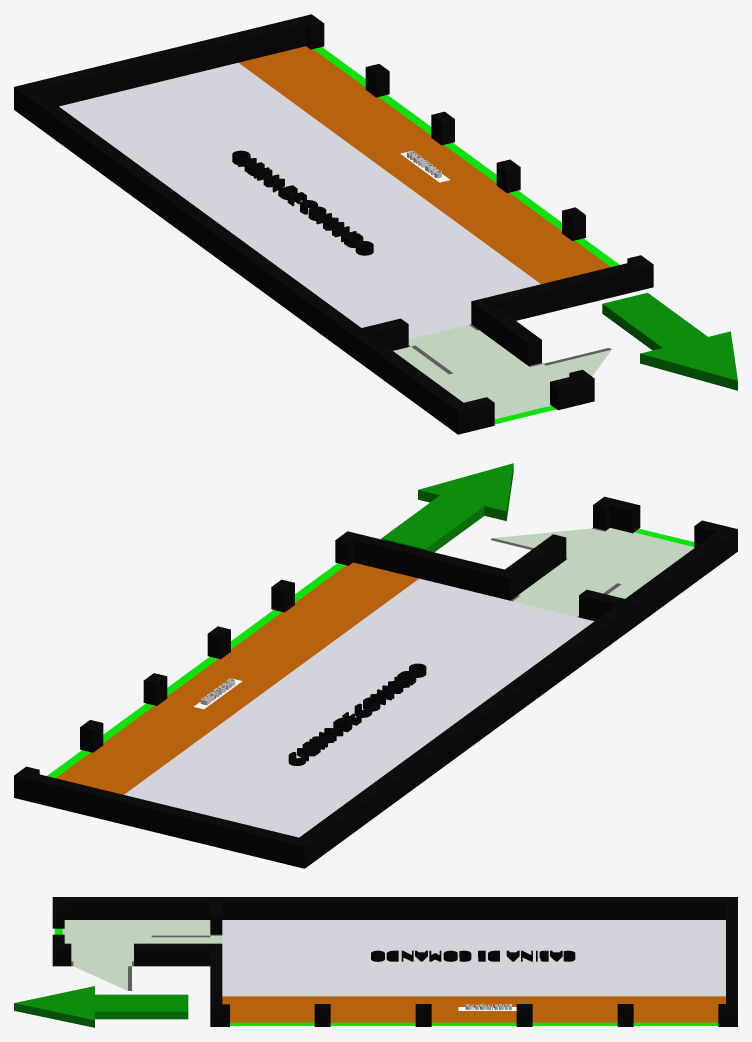
Rendered from CC2-Cabina de Comandos.glb.
3 renders of one model, top to bottom at view 1: azimuth 30°, elevation 25°; view 2: azimuth 150°, elevation 25°; view 3: azimuth 270°, elevation 25°, orthographic. The views are drawn at different scales.
Visible parts, largest first — view 1: path959, path937, path945, path939, path957, path1153, Text.001, path953, path941; view 2: path959, path937, path945, path939, path957, path1153, Text.001, path953, path941; view 3: path959, path937, path945, path957, path939, path1153, Text.001, path953, path941, path955, path943, Text.
Boxes of the visible parts, x1,y1,x2,y2 form: path959: (59, 62, 540, 339); path937: (14, 14, 494, 434); path945: (239, 46, 610, 283); path939: (365, 64, 653, 365); path957: (393, 325, 611, 419); path1153: (602, 292, 737, 390); Text.001: (232, 150, 373, 255); path953: (379, 95, 619, 266); path941: (550, 369, 594, 410); path959: (124, 578, 593, 837); path937: (14, 520, 737, 868); path945: (56, 562, 418, 794); path939: (80, 531, 566, 752); path957: (493, 528, 694, 616); path1153: (381, 463, 513, 552); Text.001: (288, 663, 426, 765); path953: (103, 563, 345, 742); path941: (593, 496, 640, 533); path959: (222, 920, 725, 996); path937: (52, 897, 737, 1026); path945: (222, 996, 725, 1022); path957: (62, 920, 222, 990); path939: (134, 943, 633, 1026); path1153: (14, 986, 188, 1027); Text.001: (371, 950, 575, 961); path953: (230, 1022, 617, 1025); path941: (52, 934, 71, 966); path955: (633, 1022, 718, 1025); path943: (71, 934, 222, 990); Text: (465, 1004, 511, 1009).
Size of the model in its own units: 11.51 by 0.8383 by 31.12.
